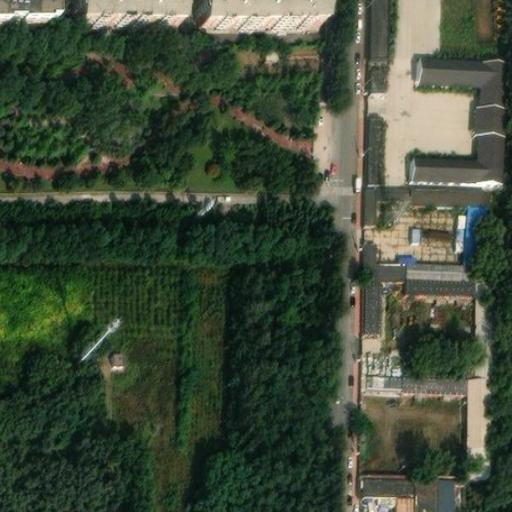building: (413, 52, 506, 174), (223, 91, 316, 160), (363, 258, 404, 326), (205, 5, 314, 27), (468, 366, 493, 447), (411, 179, 494, 195), (400, 369, 468, 387), (479, 282, 493, 366), (404, 258, 479, 273), (413, 468, 438, 512), (406, 273, 479, 288), (361, 468, 413, 489), (367, 110, 380, 176), (438, 468, 455, 512), (366, 59, 387, 93), (374, 178, 411, 195), (363, 176, 375, 219), (104, 346, 125, 369), (363, 239, 377, 258)
